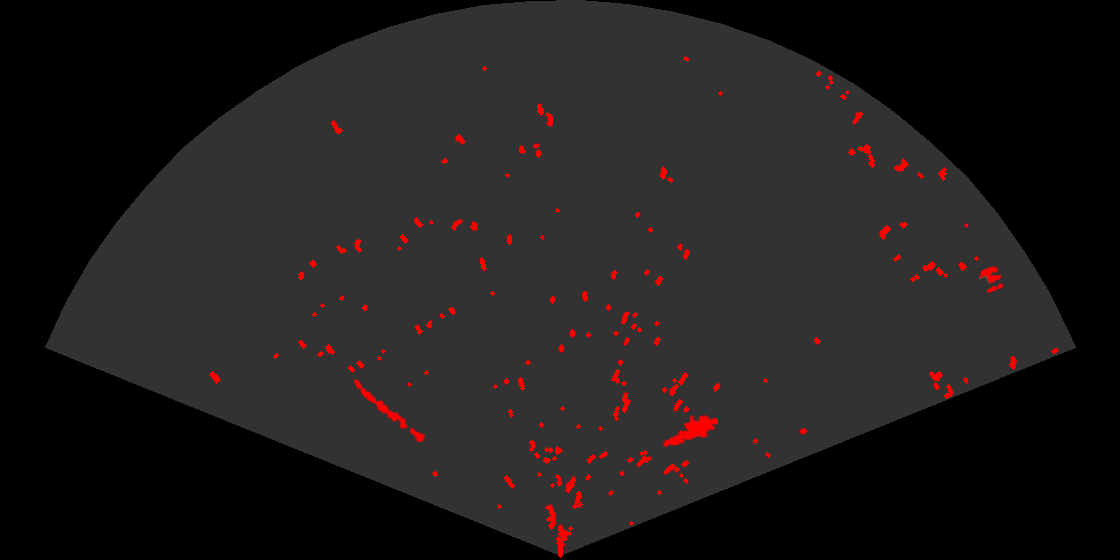ball: (977, 264, 1005, 295)
chain: (352, 377, 431, 449)
frogman: (661, 413, 718, 448)
